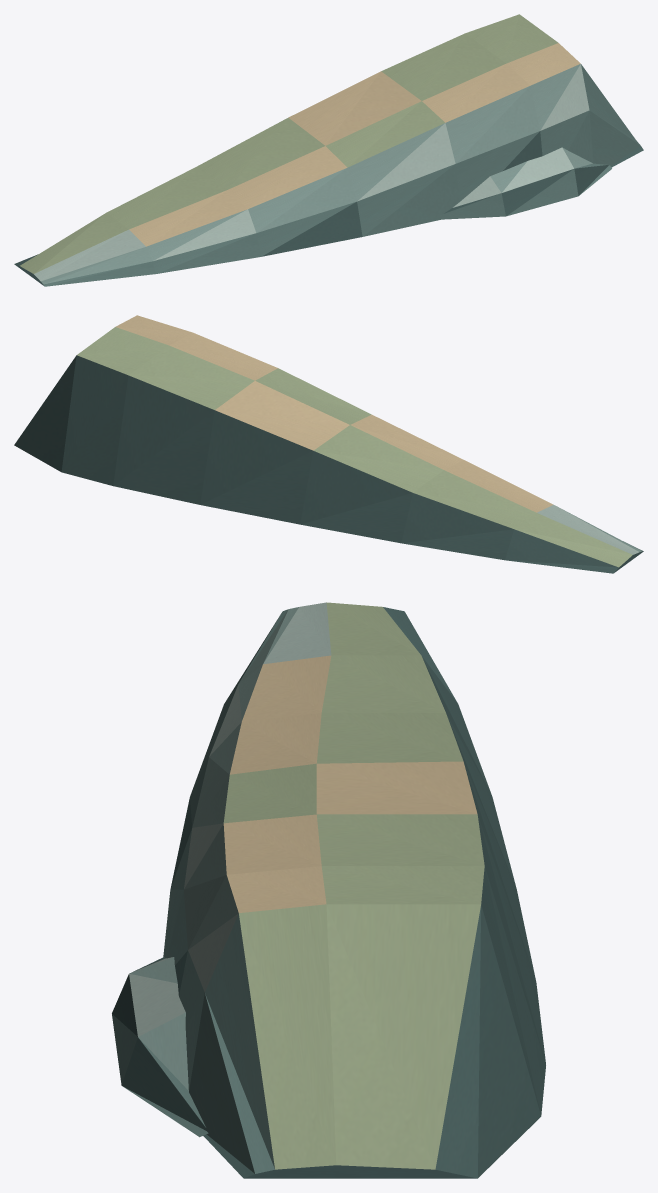
Rendered from 04_right_bank_slope.obj.
3 renders of one model, top to bottom at view 1: azimuth 30°, elevation 25°; view 2: azimuth 150°, elevation 25°; view 3: azimuth 270°, elevation 25°, orthographic. The views are drawn at different scales.
Parts seen in each view (by area): view 1: Right_Bank_Slope; view 2: Right_Bank_Slope; view 3: Right_Bank_Slope.
Part boxes in pixels (box(x1,y1,x2,y2)): Right_Bank_Slope: box(14, 14, 643, 286); Right_Bank_Slope: box(14, 315, 643, 573); Right_Bank_Slope: box(112, 602, 545, 1178).
Bounding box in the file's own units: 5.5 × 0.96 × 1.78.
Materials: 1 (1 with a texture image).
